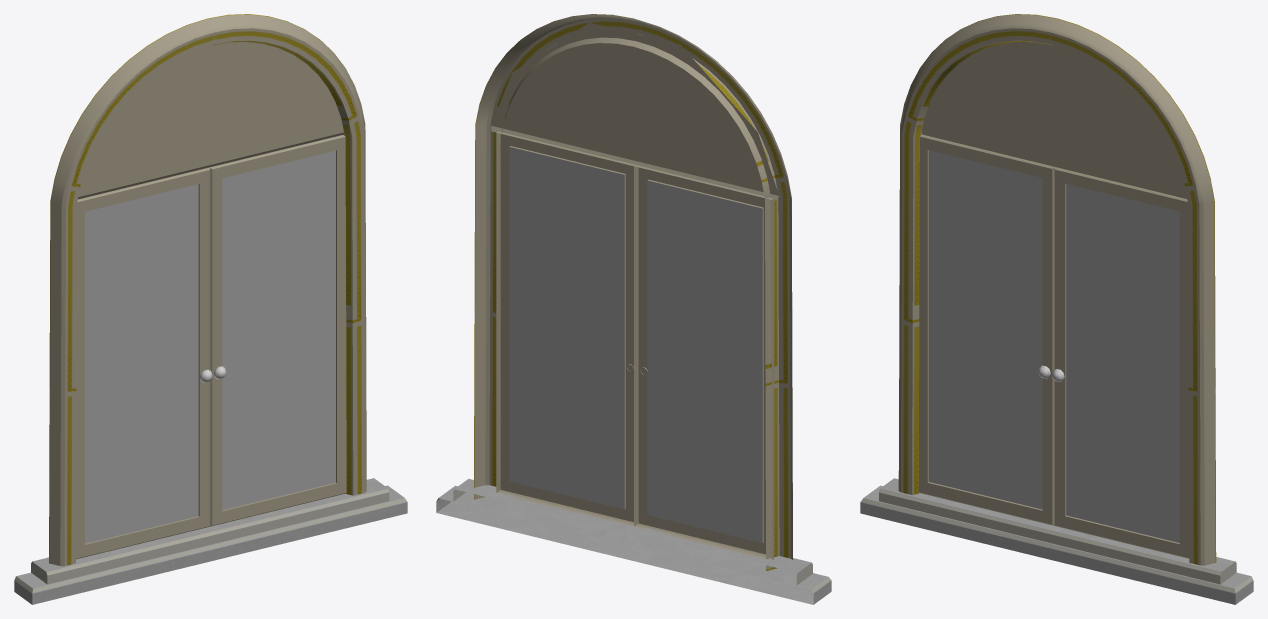
The model's file is Windows.fbx.
3 views of the same model, side by side, from view 1: azimuth 30°, elevation 25°; view 2: azimuth 150°, elevation 25°; view 3: azimuth 330°, elevation 25° (orthographic).
Visible parts, largest first — view 1: Windows; view 2: Windows; view 3: Windows.
Part boxes in pixels (x1,y1,x2,y2): Windows: (14, 14, 407, 604); Windows: (436, 14, 831, 604); Windows: (860, 14, 1253, 604).
Bounding box in the file's own units: 135 × 184 × 11.28.
